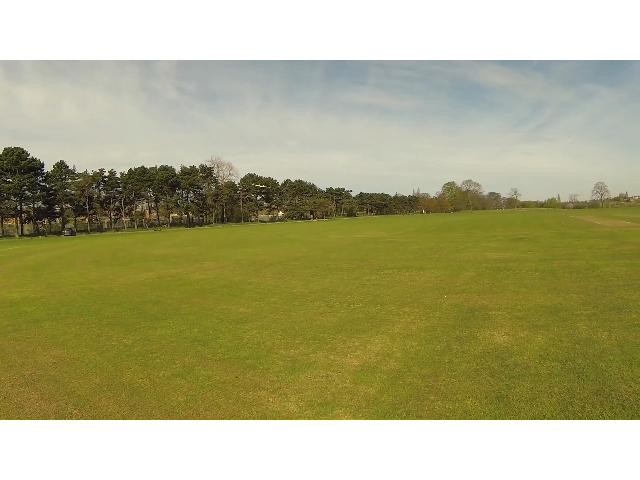Anti-Drone: (246, 182, 276, 192)
